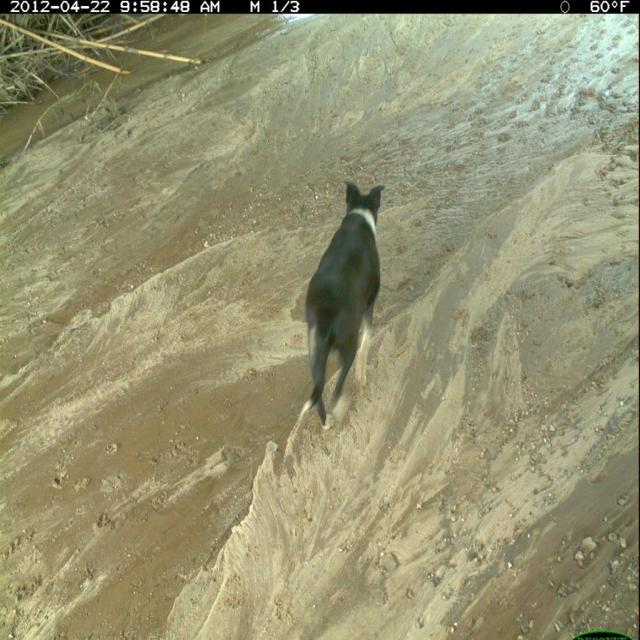dog: (299, 180, 385, 436)
